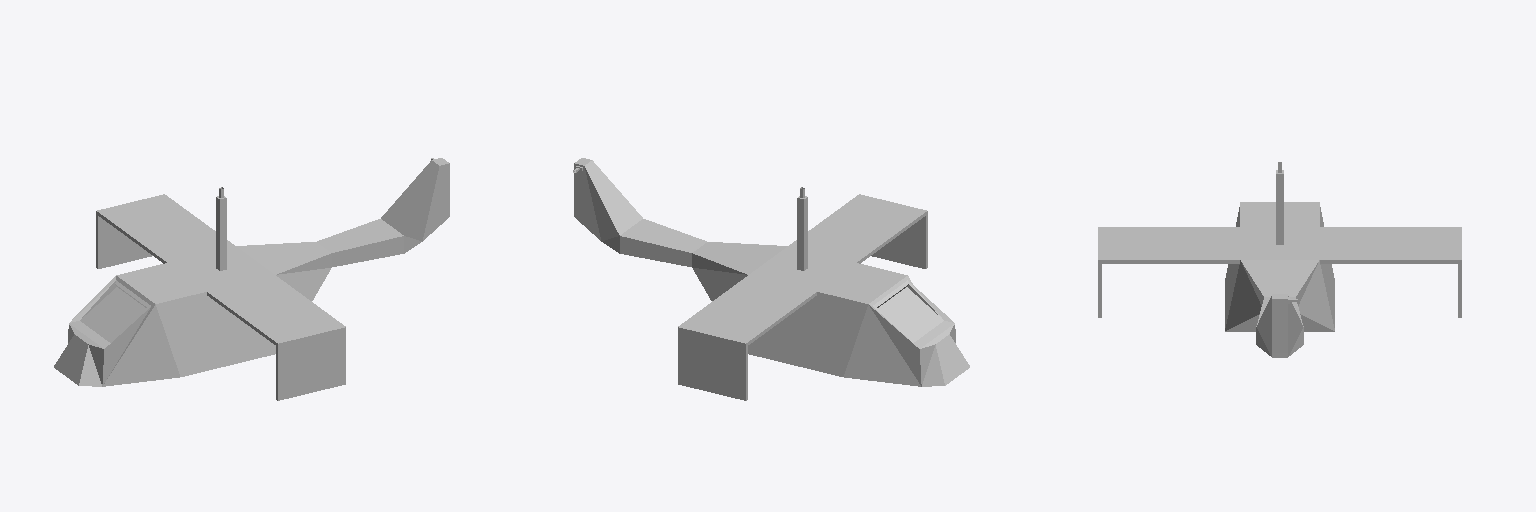
The model's file is Korpus.obj.
The picture shows the model from 3 angles: view 1: azimuth 30°, elevation 25°; view 2: azimuth 150°, elevation 25°; view 3: azimuth 270°, elevation 25°; orthographic projection.
Visible parts, largest first — view 1: korpus_Cube; view 2: korpus_Cube; view 3: korpus_Cube.
Boxes of the visible parts, <box> form: korpus_Cube: <box>54,158,449,400</box>; korpus_Cube: <box>573,158,969,400</box>; korpus_Cube: <box>1098,162,1461,357</box>.
Bounding box in the file's own units: 11.1 × 4.25 × 9.2.